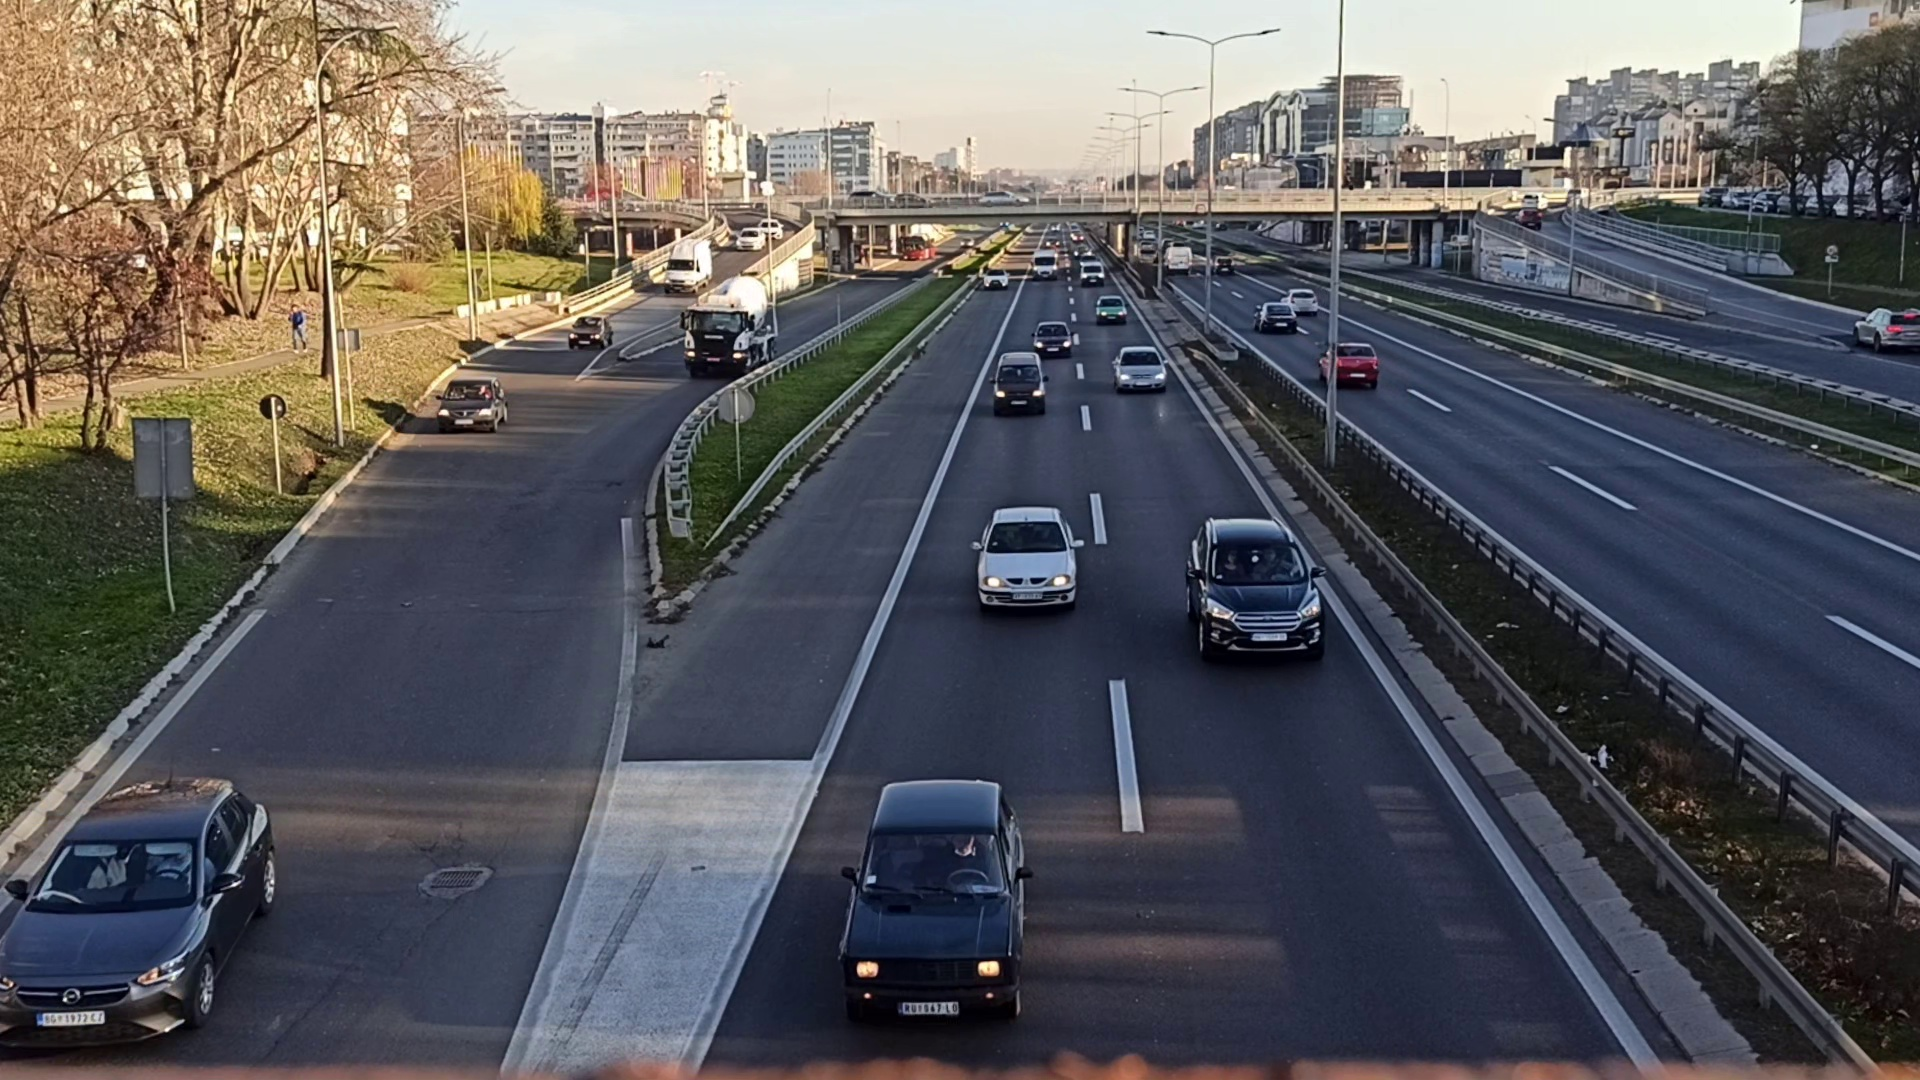car: (1, 775, 276, 1050), (839, 769, 1025, 1027), (1183, 520, 1325, 662), (975, 504, 1083, 609), (438, 375, 508, 436), (993, 351, 1044, 410), (1323, 342, 1379, 390), (1110, 348, 1166, 394), (666, 237, 712, 291), (567, 314, 611, 353), (1035, 319, 1069, 355), (1254, 302, 1294, 331), (1095, 293, 1125, 324), (733, 228, 764, 249)
truck: (682, 280, 775, 371)
